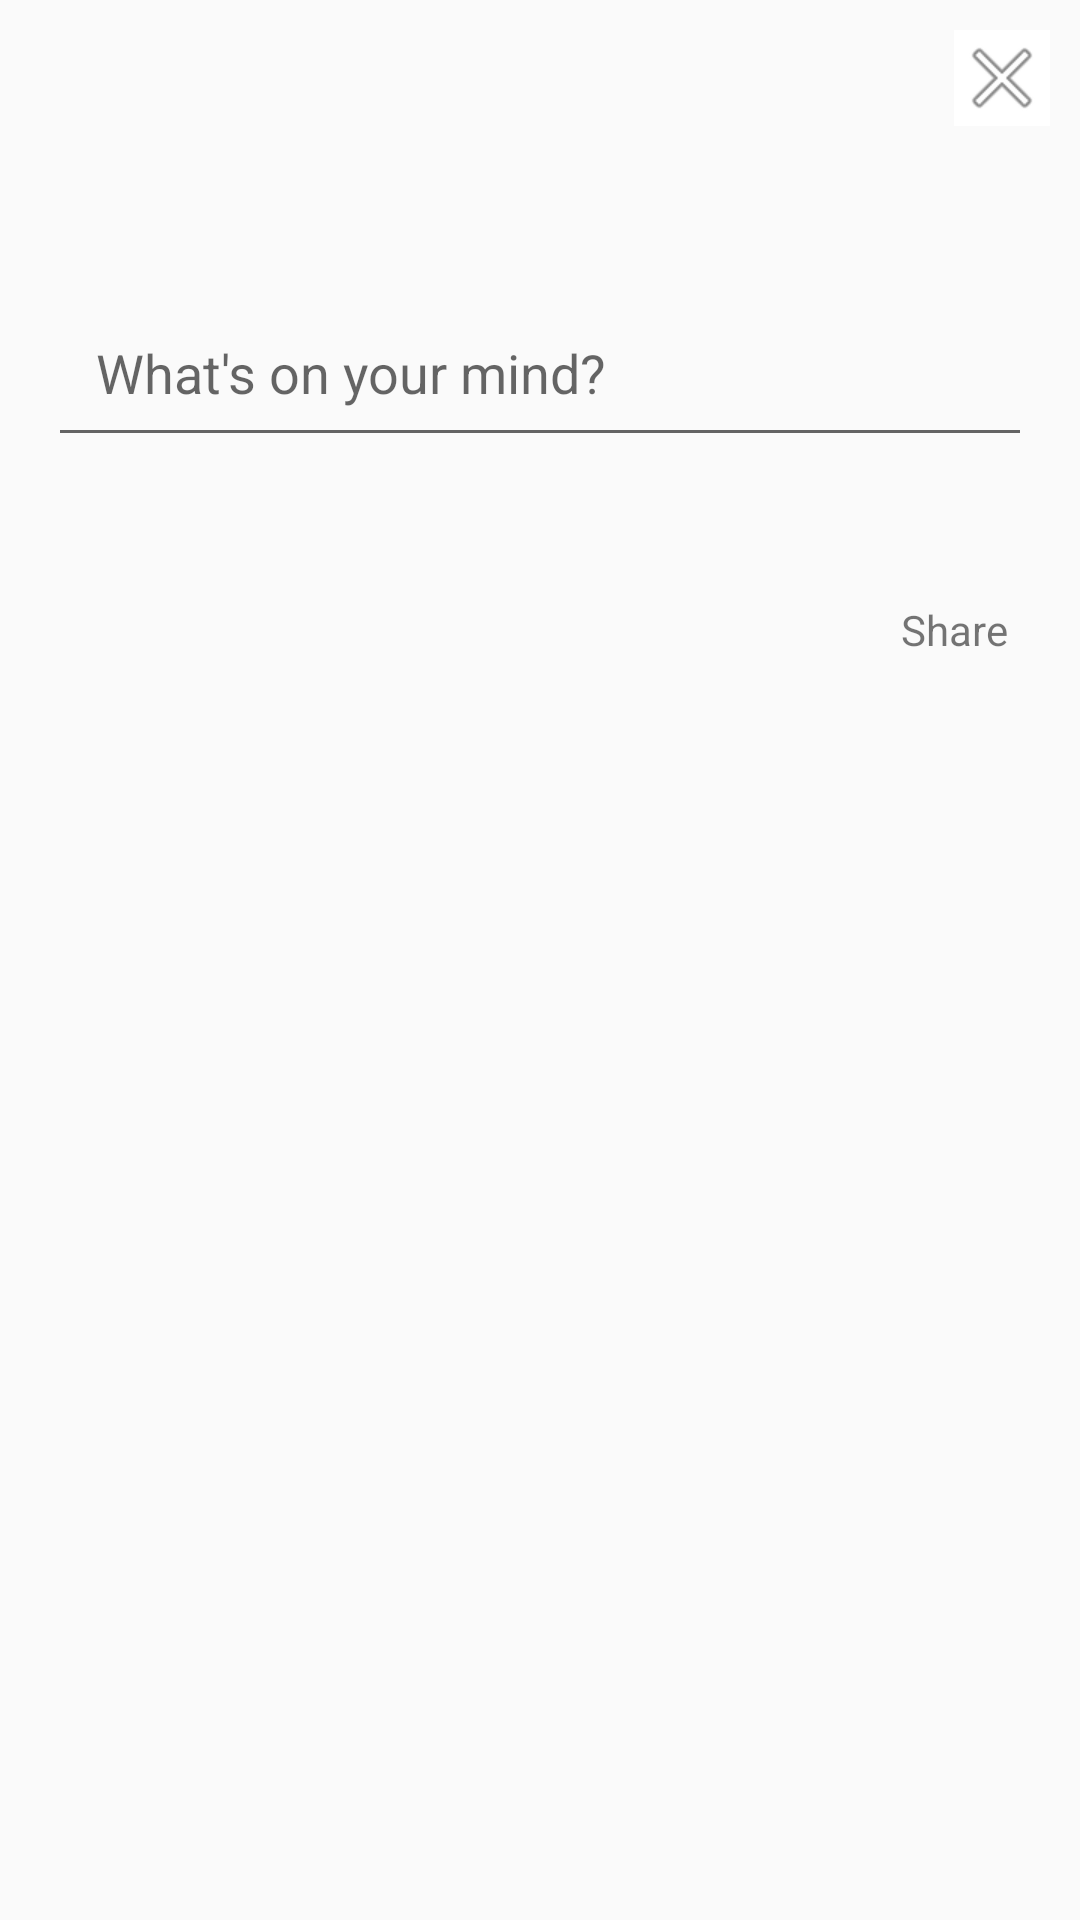

Where to tap for icons on this 1080*1920 app screen, as [x,y]:
close clear cancel: [1002,78]
